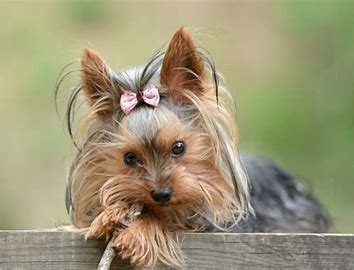dog: (52, 34, 324, 264)
